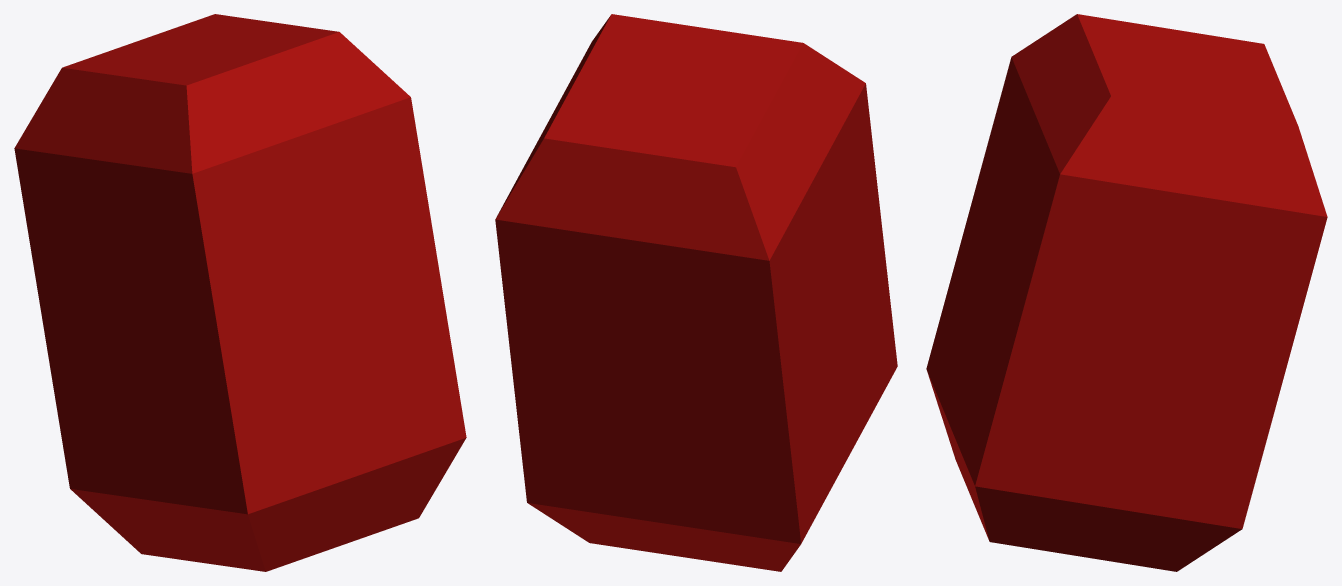
File: town_jewel0000.obj
3 views of the same model, side by side, from view 1: azimuth 30°, elevation 25°; view 2: azimuth 150°, elevation 25°; view 3: azimuth 270°, elevation 25° (orthographic). The views are drawn at different scales.
Parts seen in each view (by area): view 1: RedJewel; view 2: RedJewel; view 3: RedJewel.
Part boxes in pixels (box(x1,y1,x2,y2)): RedJewel: box(14, 14, 466, 571); RedJewel: box(495, 14, 897, 571); RedJewel: box(926, 14, 1327, 571).
Size of the model in its own units: 0.7702 by 1.21 by 0.916.
